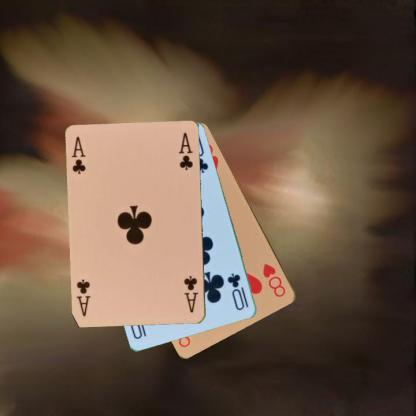10c: (225, 270, 250, 312)
8h: (260, 260, 287, 298)
Ac: (69, 134, 87, 176), (182, 274, 199, 314)
